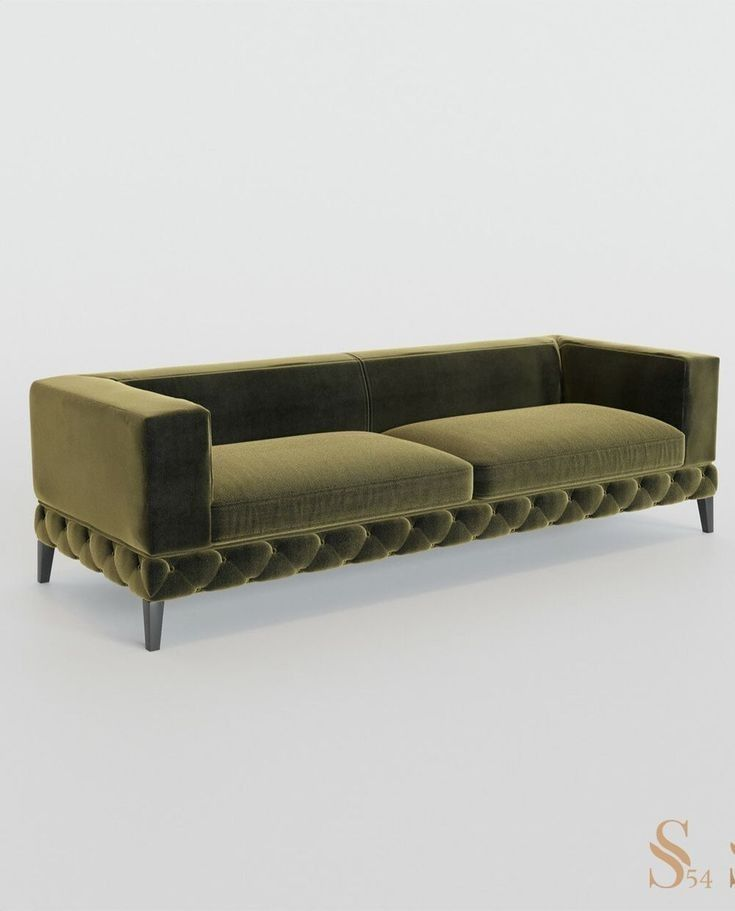3seatersofa: (31, 336, 718, 650)
backrest: (108, 338, 560, 443)
base: (34, 464, 716, 600)
leftarmrest: (558, 337, 717, 462)
leg: (144, 601, 164, 650), (37, 541, 54, 583), (699, 498, 712, 532)
rightarmrest: (31, 377, 210, 554)
seat: (213, 404, 683, 542)
